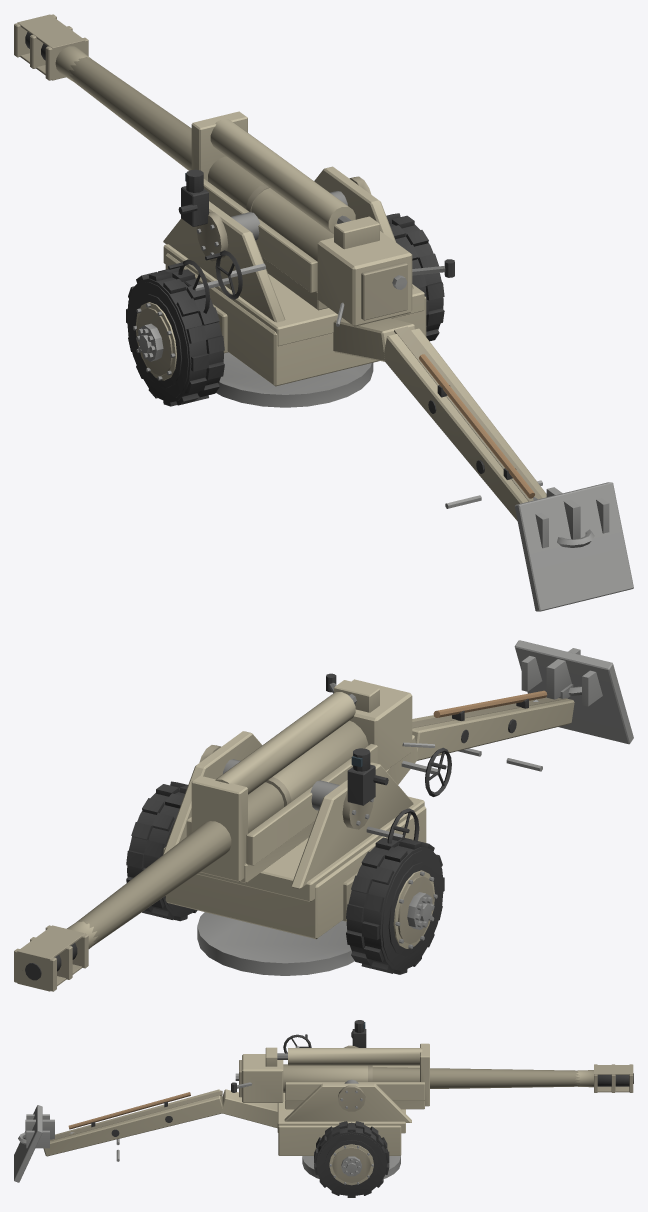
The model's file is fieldgun_usa.glb.
The picture shows the model from 3 angles, top to bottom: view 1: azimuth 30°, elevation 25°; view 2: azimuth 150°, elevation 25°; view 3: azimuth 270°, elevation 25°; orthographic projection. The views are drawn at different scales.
Visible parts, largest first — view 1: body, barrel, turret, wheel_0, wheel_1; view 2: barrel, body, turret, wheel_0, wheel_1; view 3: barrel, body, turret, wheel_1.
Boxes of the visible parts, x1=… form: body: x1=165, y1=253, x2=633, y2=611; barrel: x1=14, y1=14, x2=454, y2=326; turret: x1=163, y1=166, x2=424, y2=346; wheel_0: x1=126, y1=267, x2=224, y2=406; wheel_1: x1=386, y1=213, x2=444, y2=341; barrel: x1=14, y1=673, x2=434, y2=991; body: x1=165, y1=640, x2=633, y2=975; turret: x1=163, y1=731, x2=451, y2=901; wheel_0: x1=346, y1=835, x2=444, y2=974; wheel_1: x1=126, y1=781, x2=197, y2=921; barrel: x1=231, y1=1043, x2=633, y2=1109; body: x1=14, y1=1089, x2=401, y2=1182; turret: x1=277, y1=1020, x2=411, y2=1133; wheel_1: x1=314, y1=1121, x2=389, y2=1197.
Size of the model in its own units: 1.86 by 1.4 by 6.29.
